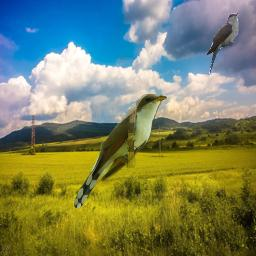Cuckoo: (74, 94, 167, 208), (206, 13, 239, 76)
